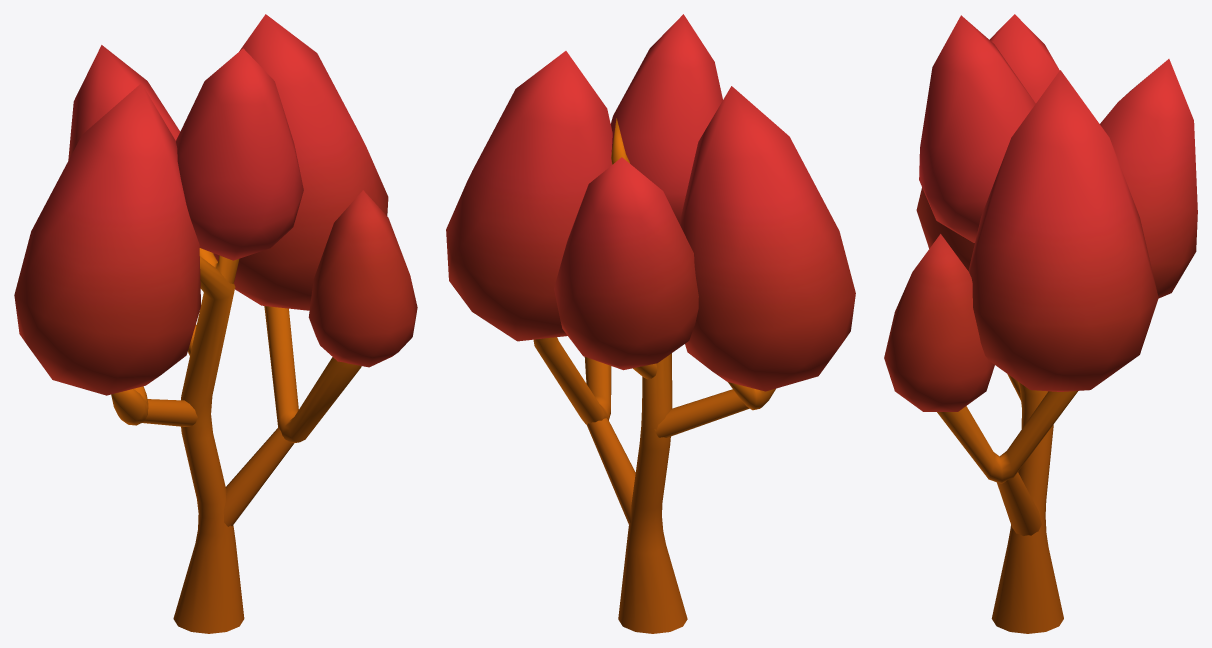
Rendered from Tree_04.2.fbx.
The picture shows the model from 3 angles, left to right: view 1: azimuth 30°, elevation 25°; view 2: azimuth 150°, elevation 25°; view 3: azimuth 270°, elevation 25°; orthographic projection. The views are drawn at different scales.
Visible parts, largest first — view 1: Tree_04.2; view 2: Tree_04.2; view 3: Tree_04.2.
Boxes of the visible parts, box(x1,y1,x2,y2) form: Tree_04.2: box(14, 14, 417, 633); Tree_04.2: box(446, 14, 855, 633); Tree_04.2: box(884, 14, 1197, 633).
Size of the model in its own units: 247 by 179 by 381.
